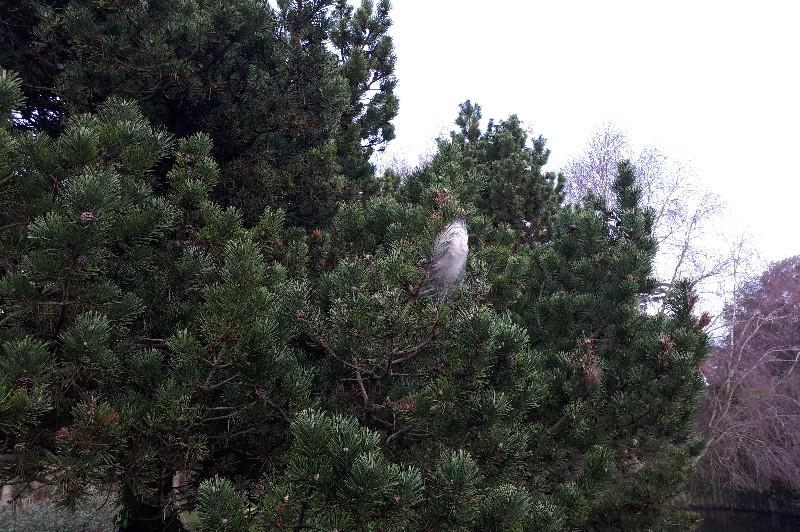thaumatopoea pityocampa jajno gnijezdo: (422, 214, 474, 299)
